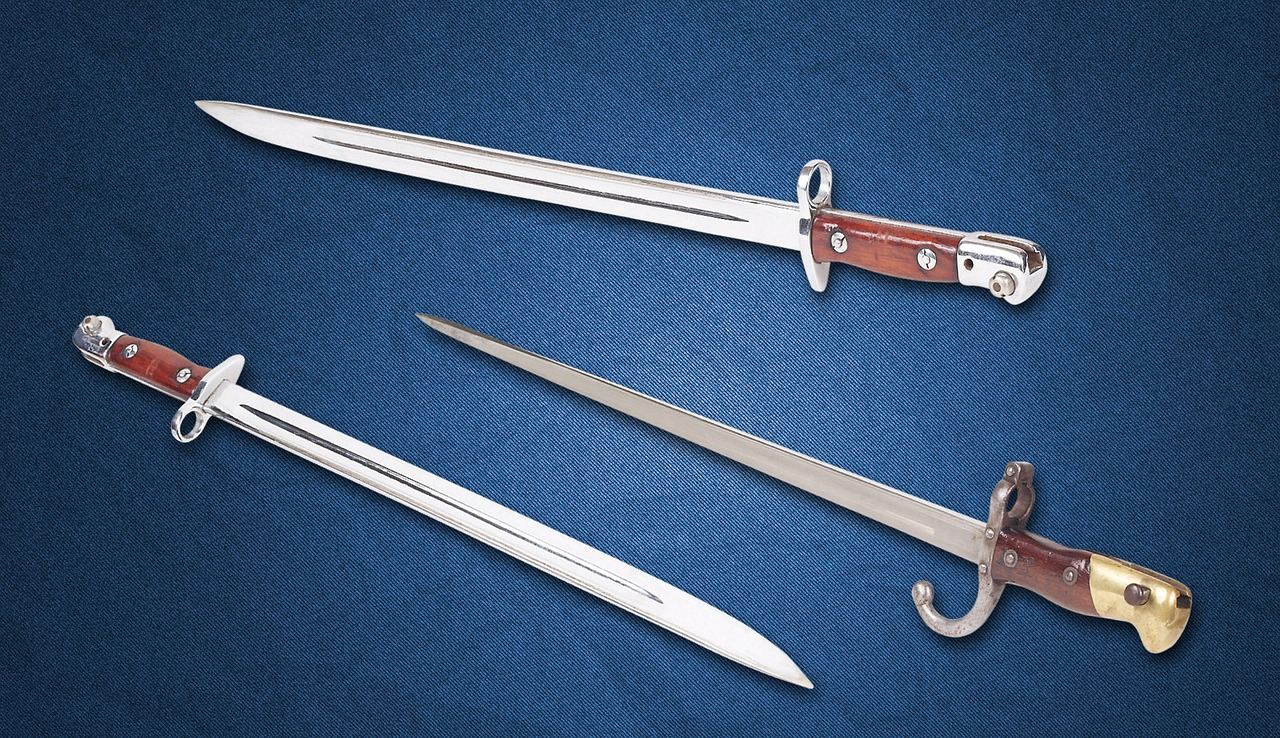knife: (68, 306, 820, 698), (412, 296, 1195, 665), (191, 88, 1055, 306)
